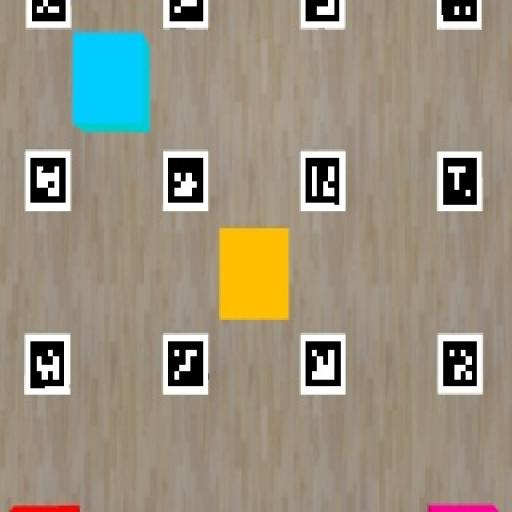car: (72, 32, 150, 132), (428, 504, 499, 511)
fire: (220, 229, 289, 319), (10, 504, 79, 511)
